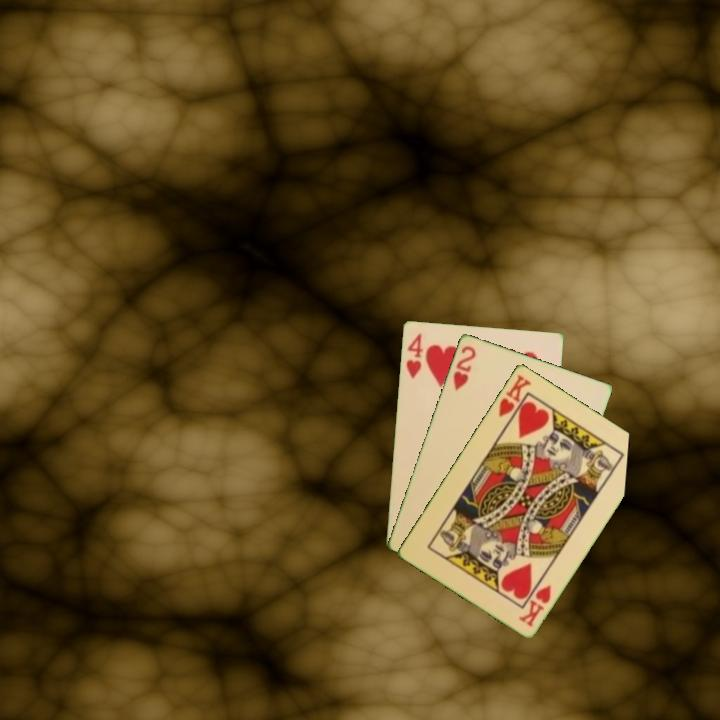2h: (449, 342, 479, 393)
4h: (402, 330, 425, 381)
Kh: (495, 370, 534, 427), (515, 581, 554, 629)
